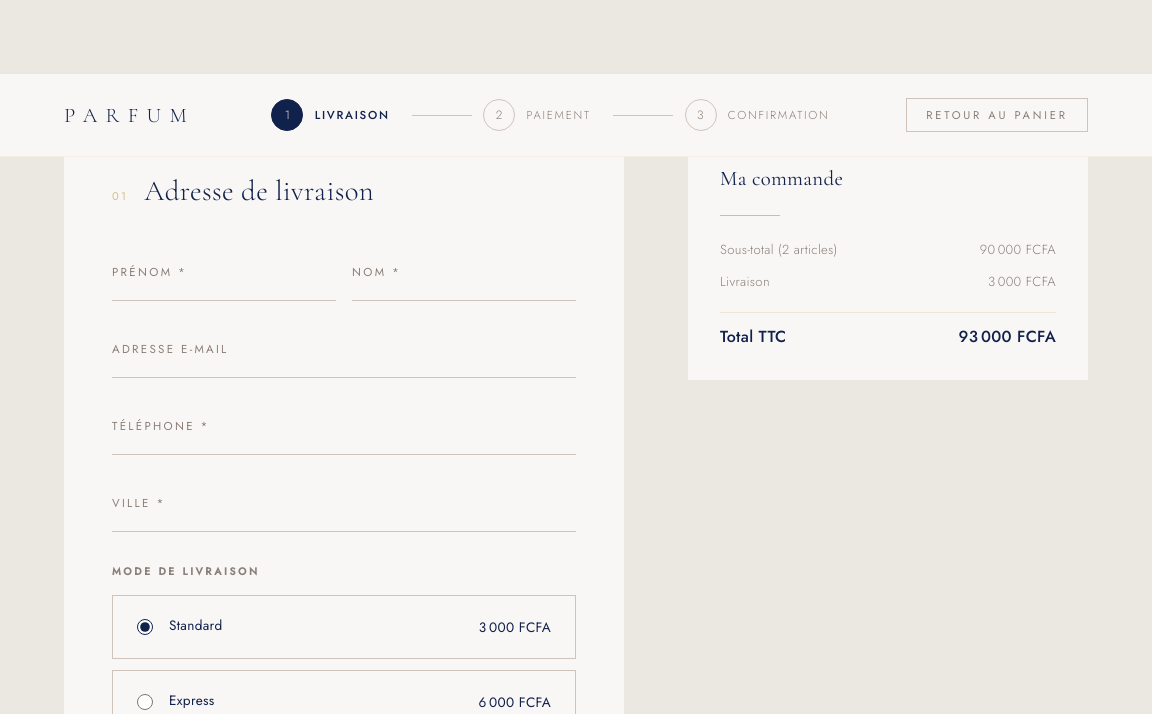
it: Checkout — formulaire de livraison › active le bouton "Continuer" quand tous les champs requis sont remplis
This screenshot has width=1152, height=714.
Type "Alice" into the field labelled "Prénom *".
click(224, 274); type("Alice")  # box [112,248,336,301]
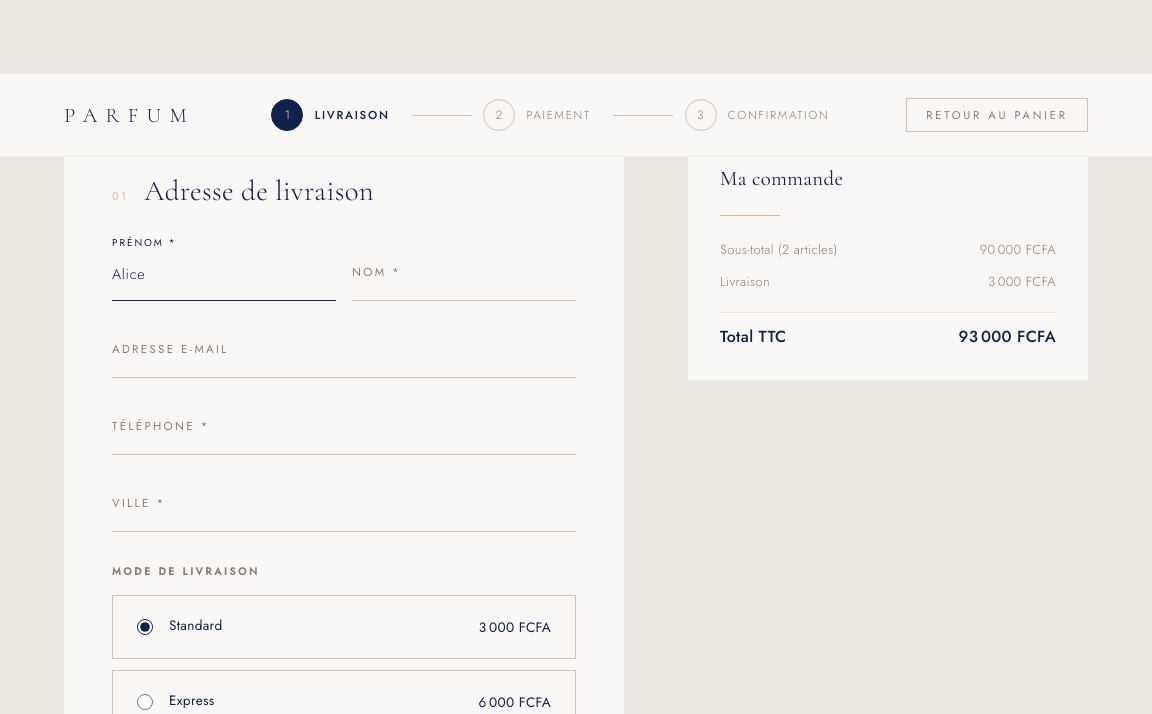
Type "Dupont" into the field labelled "Nom *".
click(464, 274); type("Dupont")  # box [352,248,576,301]
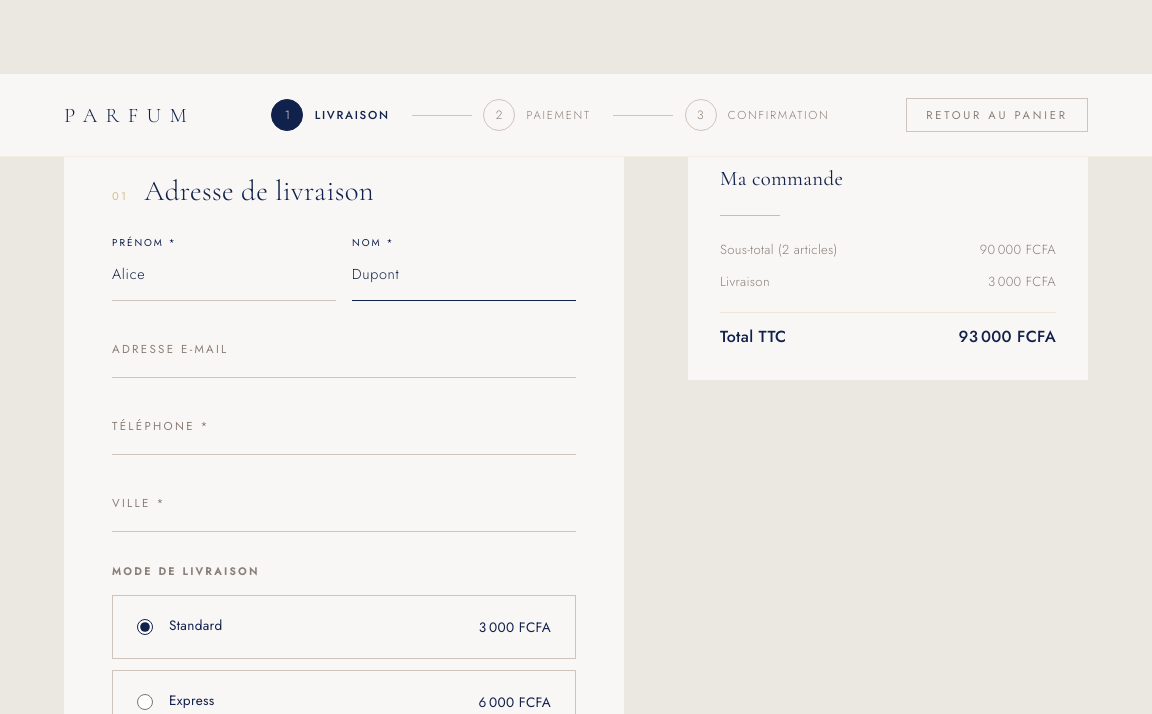
Type "0102030405" into the field labelled "Téléphone *".
click(344, 428); type("0102030405")  # box [112,402,576,455]
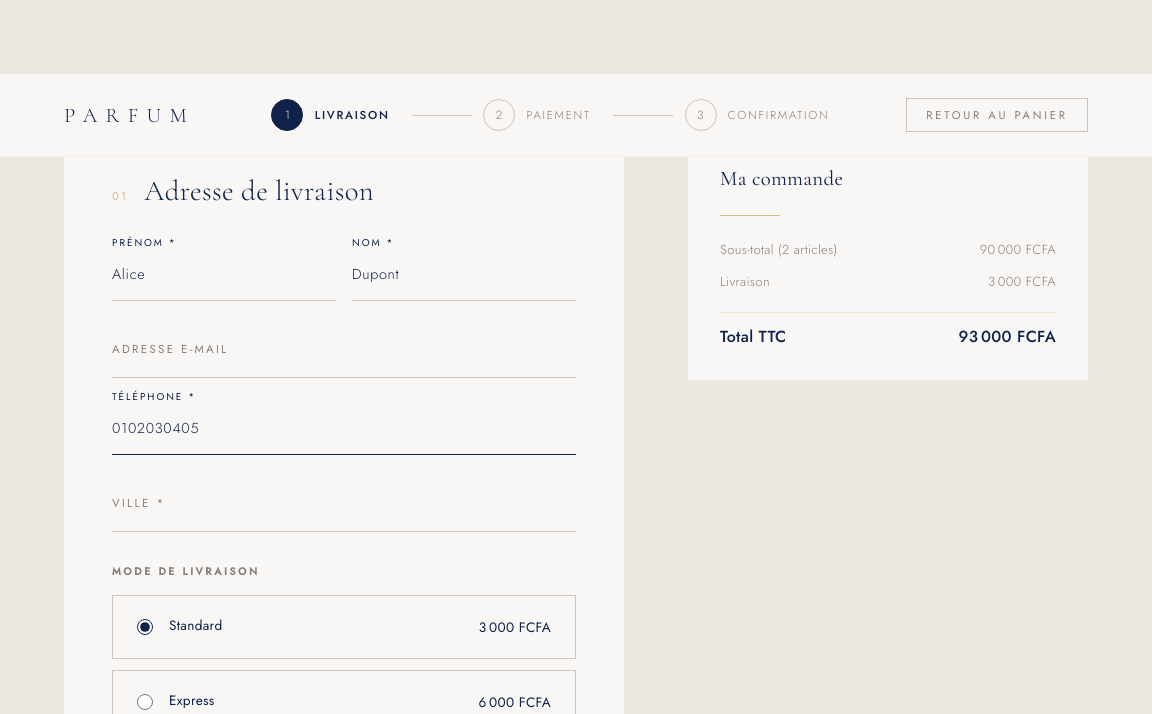
Type "Paris" into the field labelled "Ville *".
click(344, 506); type("Paris")  # box [112,479,576,532]
(page scrolled)
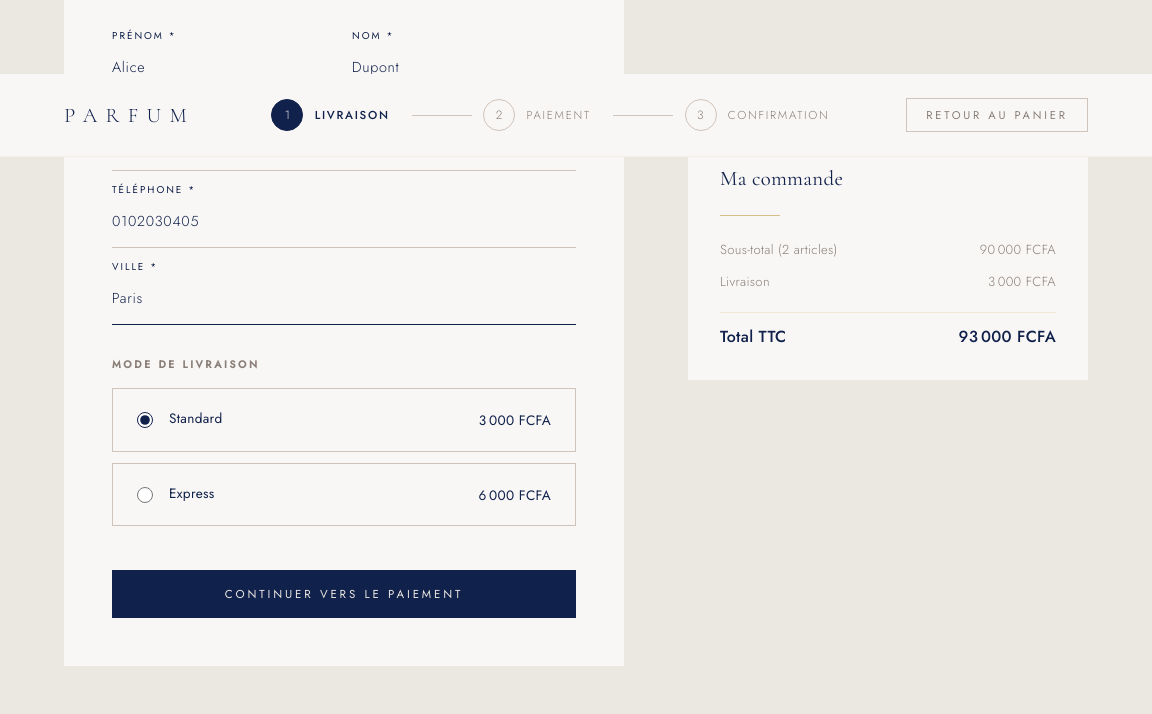
Now the button "Continuer vers le paiement" is enabled, box [112,570,576,618]
